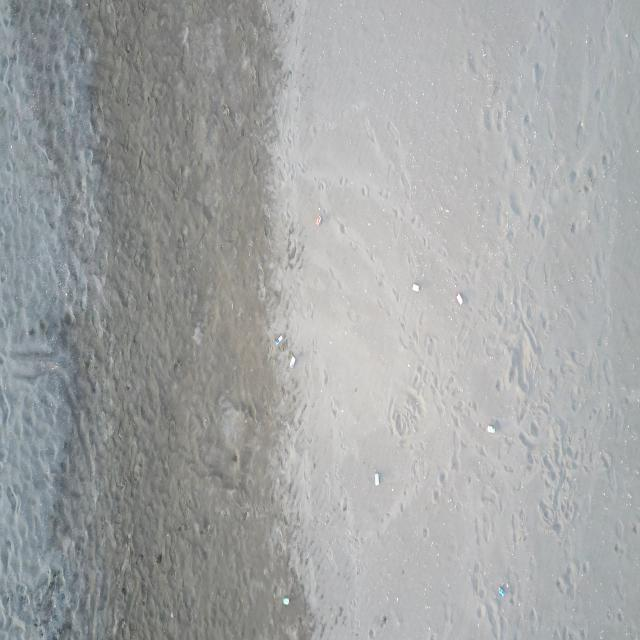Garbage: (273, 335, 286, 350), (497, 584, 507, 596), (288, 353, 295, 367), (373, 472, 380, 486), (455, 292, 462, 304), (313, 214, 320, 226), (275, 335, 283, 344), (487, 424, 495, 432), (281, 595, 288, 604), (412, 283, 419, 291)
